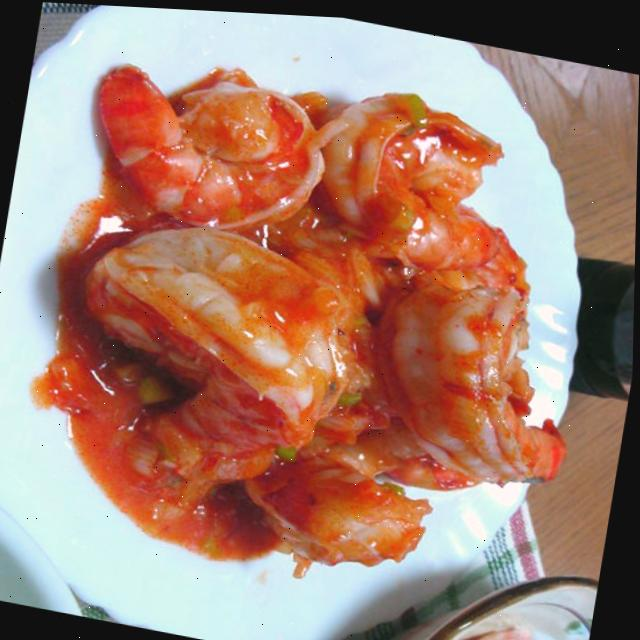熟制海鲜: (0, 0, 628, 606)
